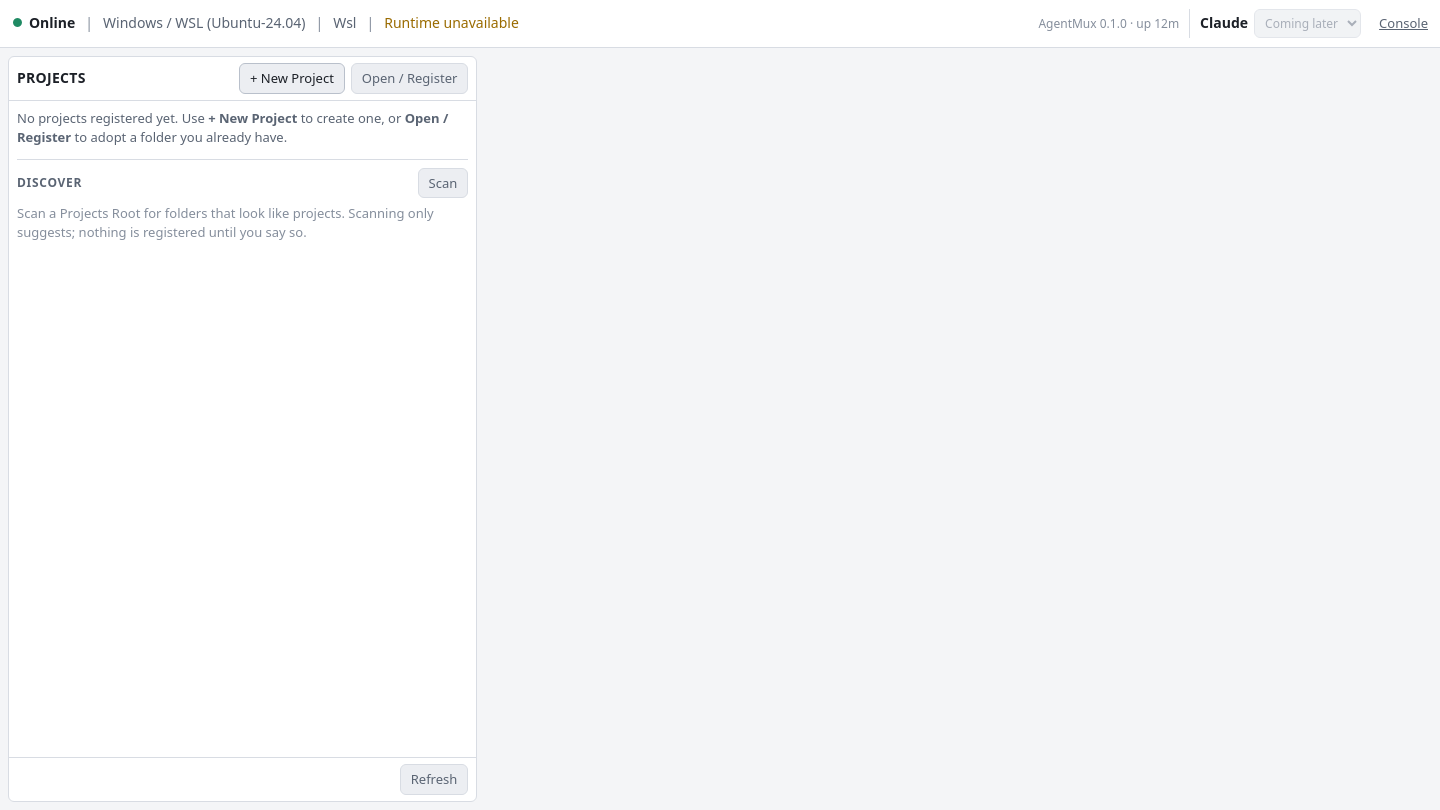
Test: App workspace membership › creates a project from the dialog and opens a panel for it
Expected: the text "No projects registered yet" is shown, 17,109 -> 208,127
Click the button "+ New Project". click: (292,78)
box: 239,63 -> 345,94
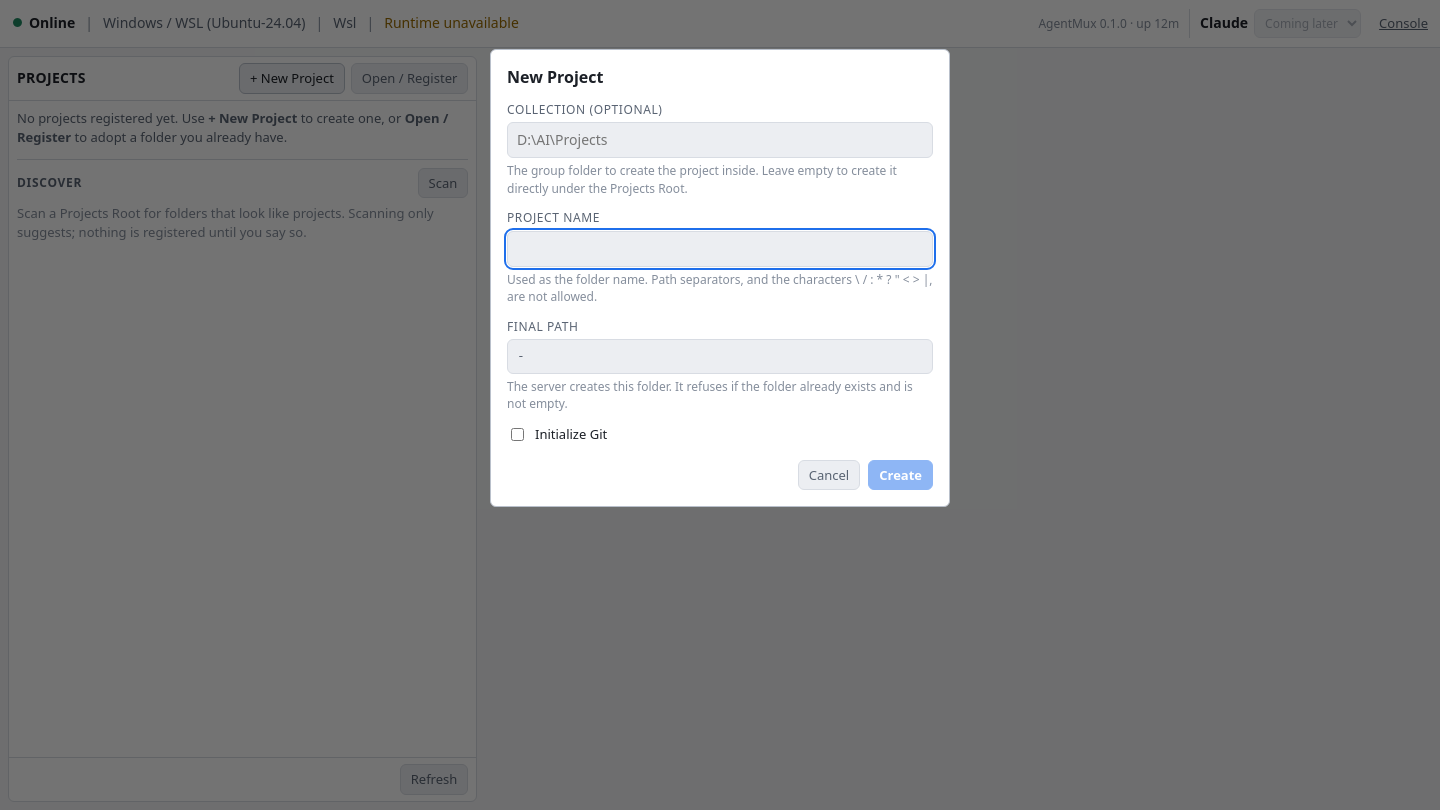
Type "NewApp" into the field labelled "Project name". click: (720,249)
box: 507,231 -> 933,267
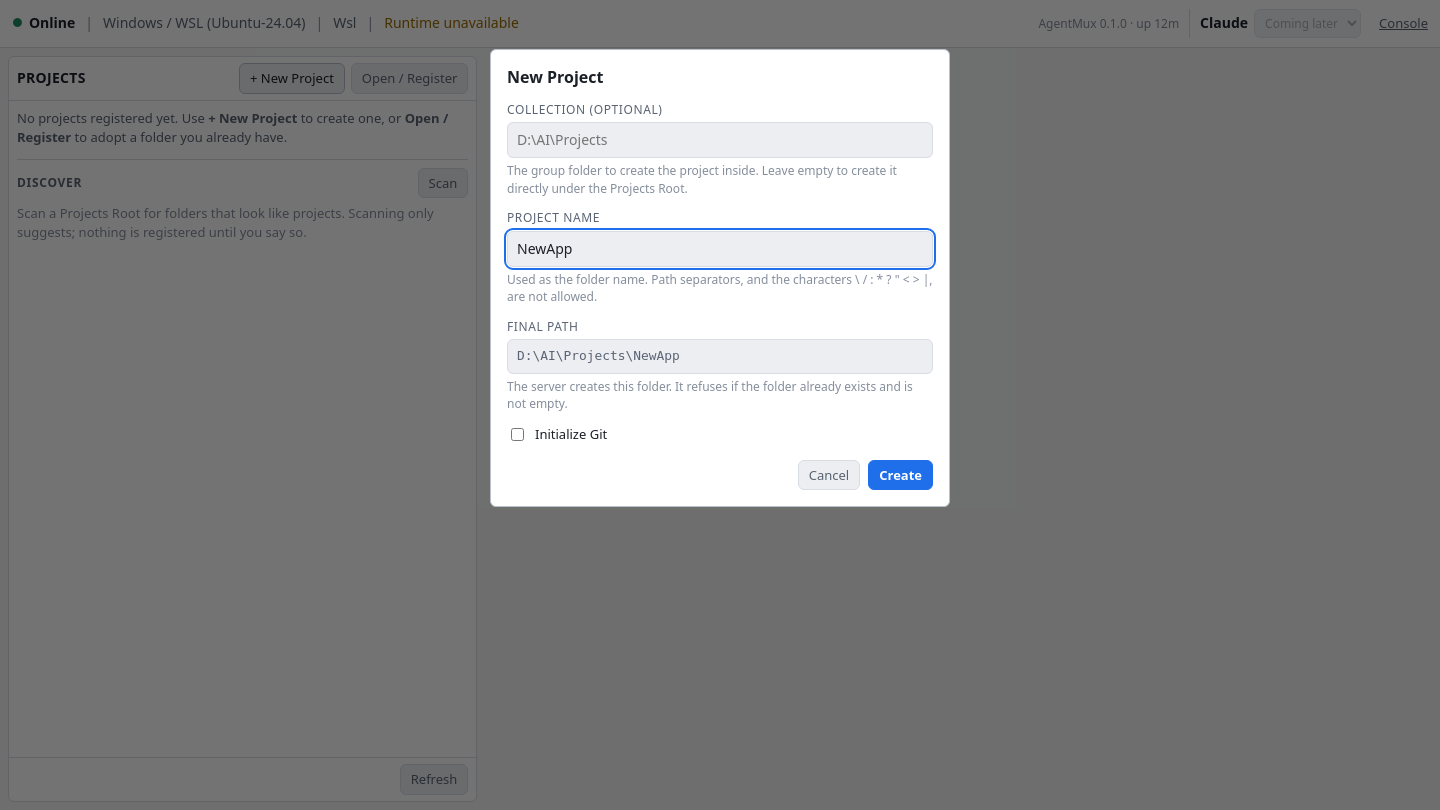
Click the button "Create". click: (901,475)
box: 868,460 -> 933,490
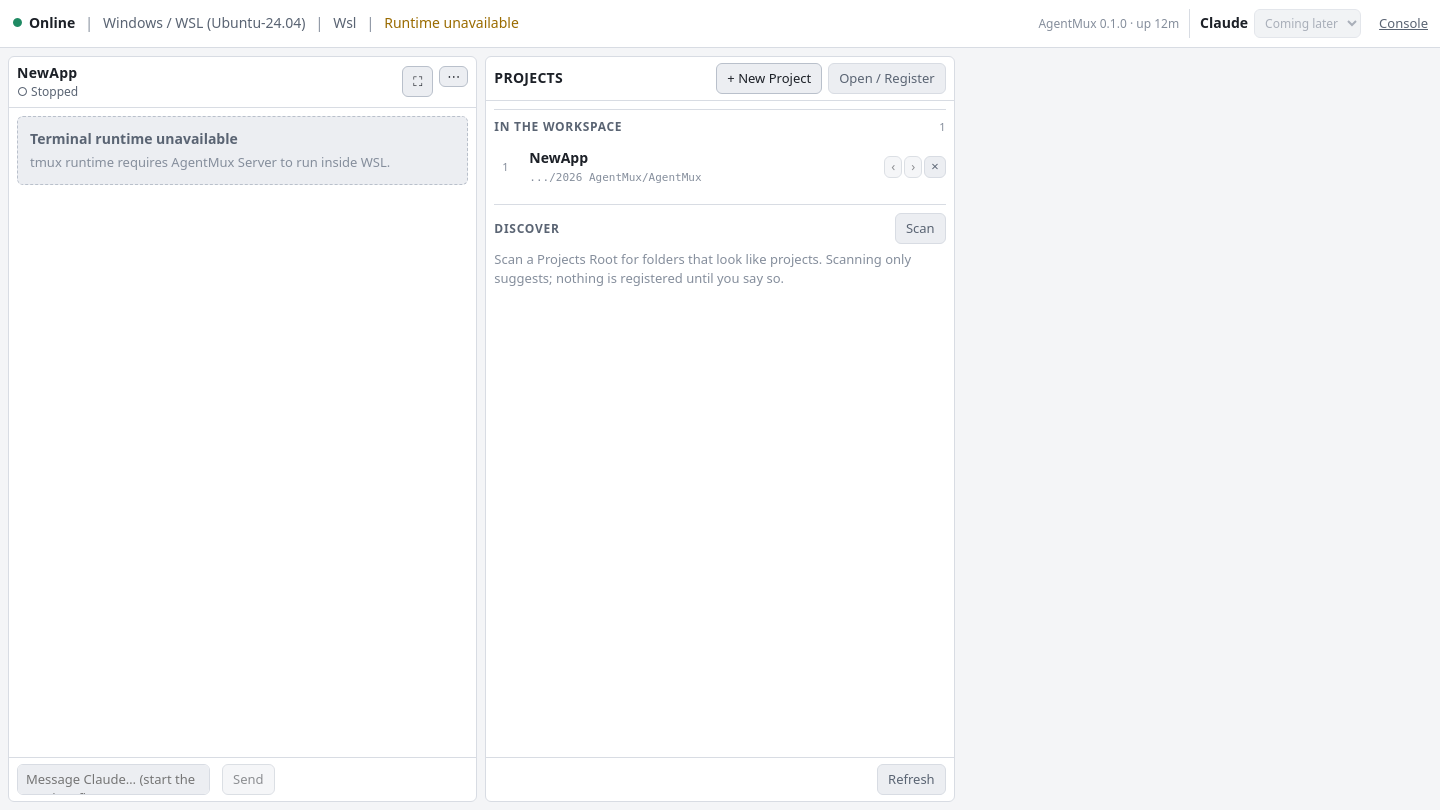
Expected: the heading "NewApp" is shown, 17,63 -> 78,83
Expected: the dialog is gone
